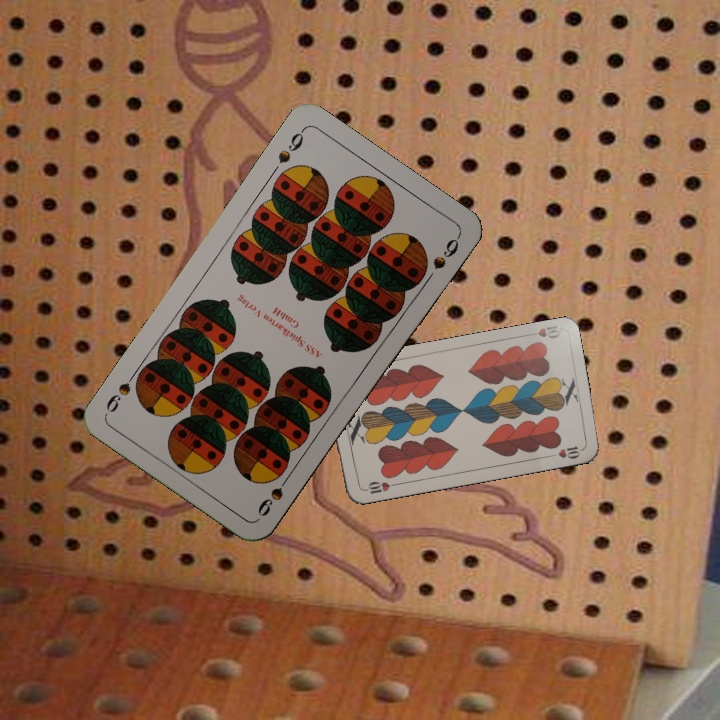H10: (522, 321, 563, 341), (359, 477, 399, 497)
S9: (253, 468, 294, 519), (273, 125, 307, 167)
